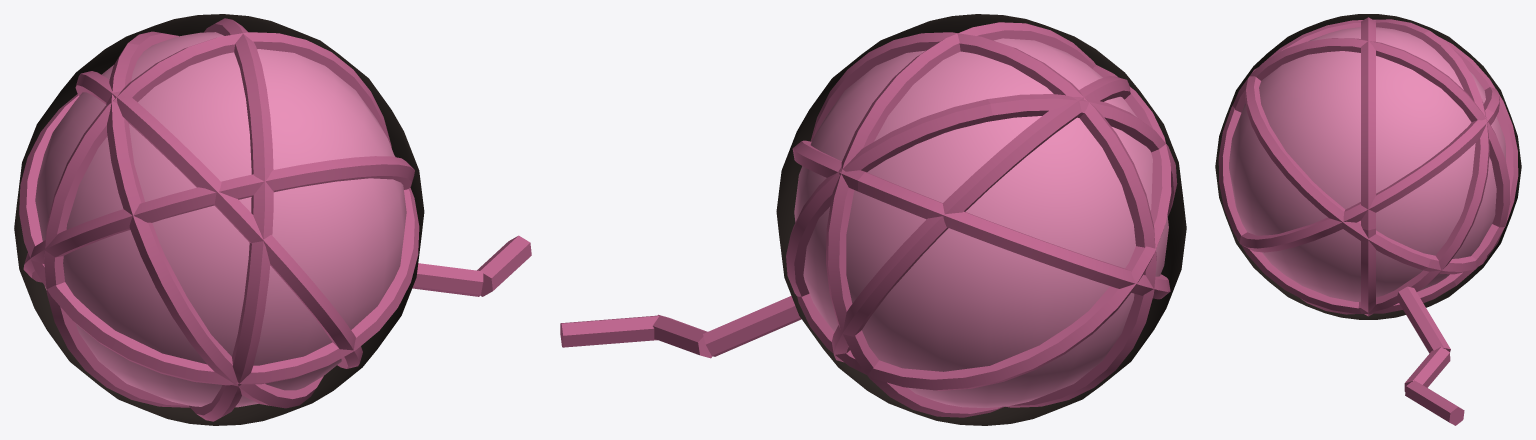
Rendered from Treat_Yarn.fbx.
3 views of the same model, side by side, from view 1: azimuth 30°, elevation 25°; view 2: azimuth 150°, elevation 25°; view 3: azimuth 270°, elevation 25° (orthographic). The views are drawn at different scales.
Visible parts, largest first — view 1: TR_Treat_Yarn_YarnPink, TR_Treat_Yarn_YarnDark, TR_Treat_Yarn_Outline; view 2: TR_Treat_Yarn_YarnPink, TR_Treat_Yarn_YarnDark, TR_Treat_Yarn_Outline; view 3: TR_Treat_Yarn_YarnPink, TR_Treat_Yarn_YarnDark, TR_Treat_Yarn_Outline.
Part boxes in pixels (<box>): TR_Treat_Yarn_YarnPink: <box>35,32,406,407</box>; TR_Treat_Yarn_YarnDark: <box>19,18,531,421</box>; TR_Treat_Yarn_Outline: <box>14,14,424,425</box>; TR_Treat_Yarn_YarnPink: <box>794,38,1168,407</box>; TR_Treat_Yarn_YarnDark: <box>560,22,1177,417</box>; TR_Treat_Yarn_Outline: <box>776,14,1186,425</box>; TR_Treat_Yarn_YarnPink: <box>1229,27,1505,301</box>; TR_Treat_Yarn_YarnDark: <box>1218,17,1518,425</box>; TR_Treat_Yarn_Outline: <box>1215,14,1521,319</box>.
Size of the model in its own units: 0.6335 by 0.416 by 0.416.
